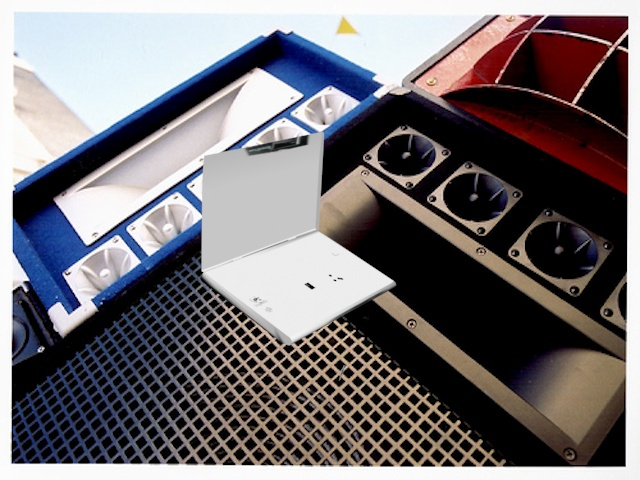laptop_computer: (201, 129, 400, 384)
